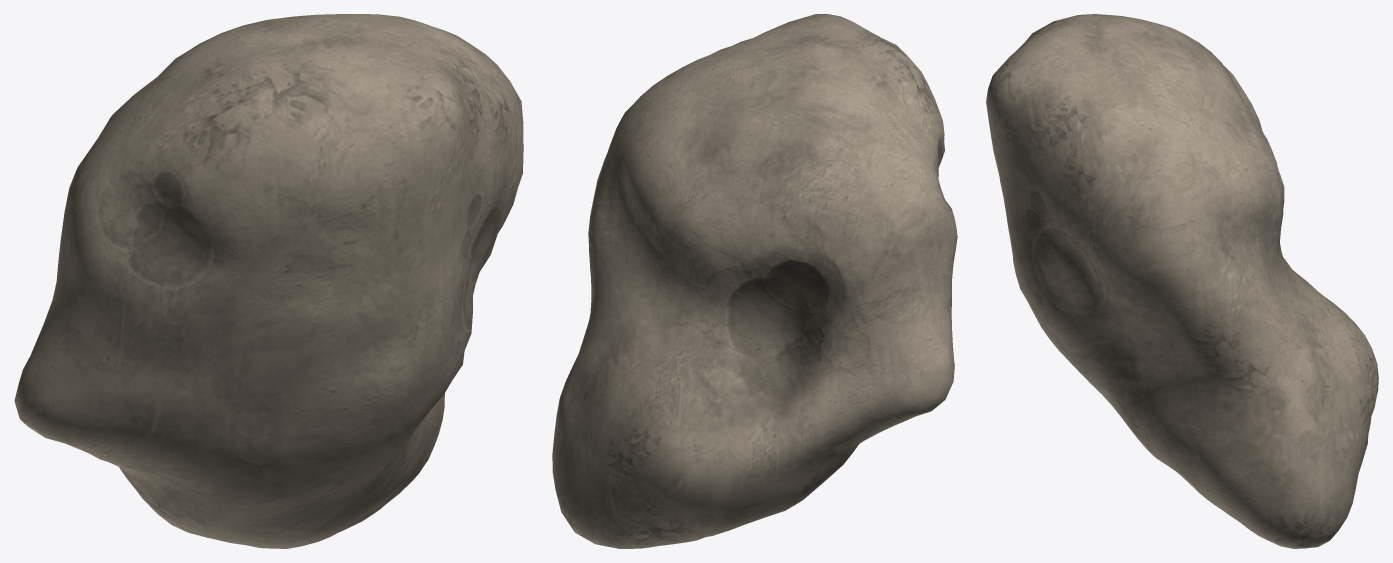
File: gold_18.glb
The picture shows the model from 3 angles, left to right: view 1: azimuth 30°, elevation 25°; view 2: azimuth 150°, elevation 25°; view 3: azimuth 270°, elevation 25°; orthographic projection. The views are drawn at different scales.
Parts seen in each view (by area): view 1: asteroid_01; view 2: asteroid_01; view 3: asteroid_01.
Part boxes in pixels (bbox=[...]): asteroid_01: bbox=[14, 14, 523, 548]; asteroid_01: bbox=[552, 14, 957, 548]; asteroid_01: bbox=[986, 14, 1378, 548].
Bounding box in the file's own units: 1.09 × 1.32 × 1.03.
Materials: 1 (1 with a texture image).
